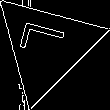L_E: (18, 25, 75, 68)
